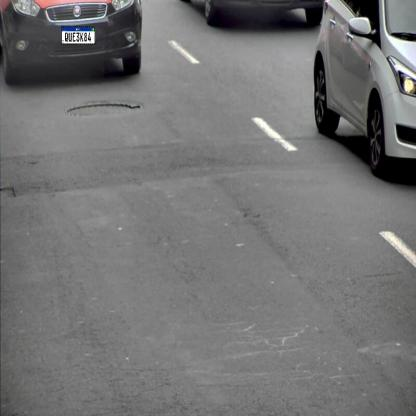PlacaM: (62, 26, 96, 44)
